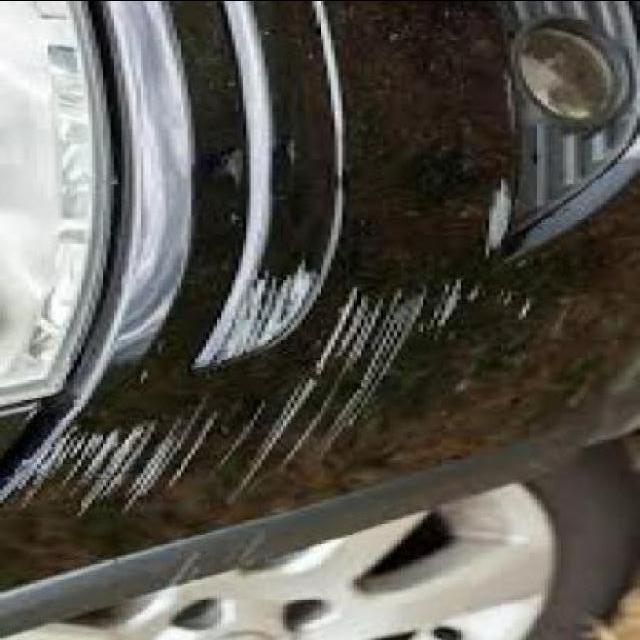front-bumper-dent: (0, 2, 637, 612)
